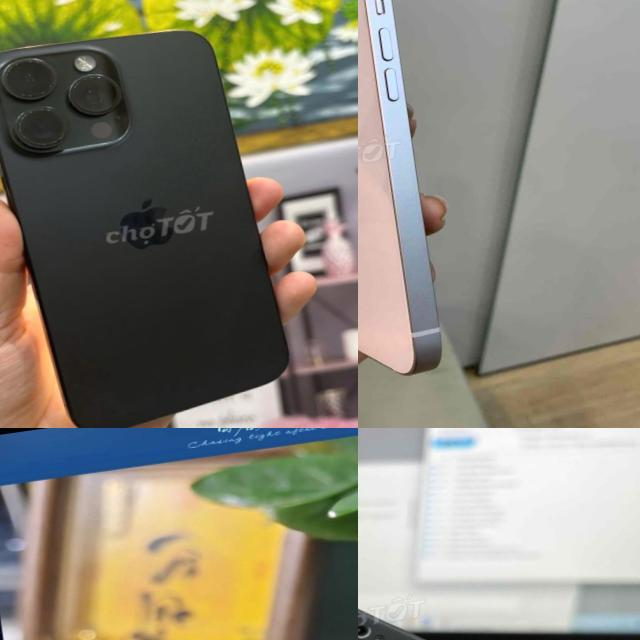gen_12_13: (358, 478, 530, 640)
gen_14: (358, 0, 482, 390)
gen_15: (0, 5, 303, 428)
scratch: (0, 42, 137, 165)
